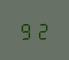nine: (19, 20, 33, 40)
two: (34, 20, 48, 39)
